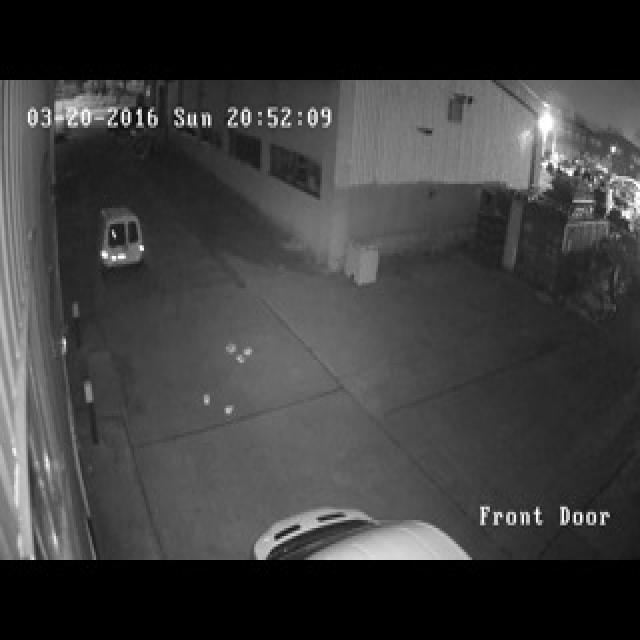burglary: (69, 194, 145, 296)
